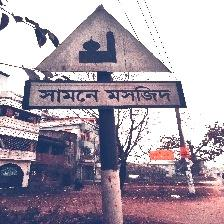Mosque in front: (27, 4, 186, 113)
